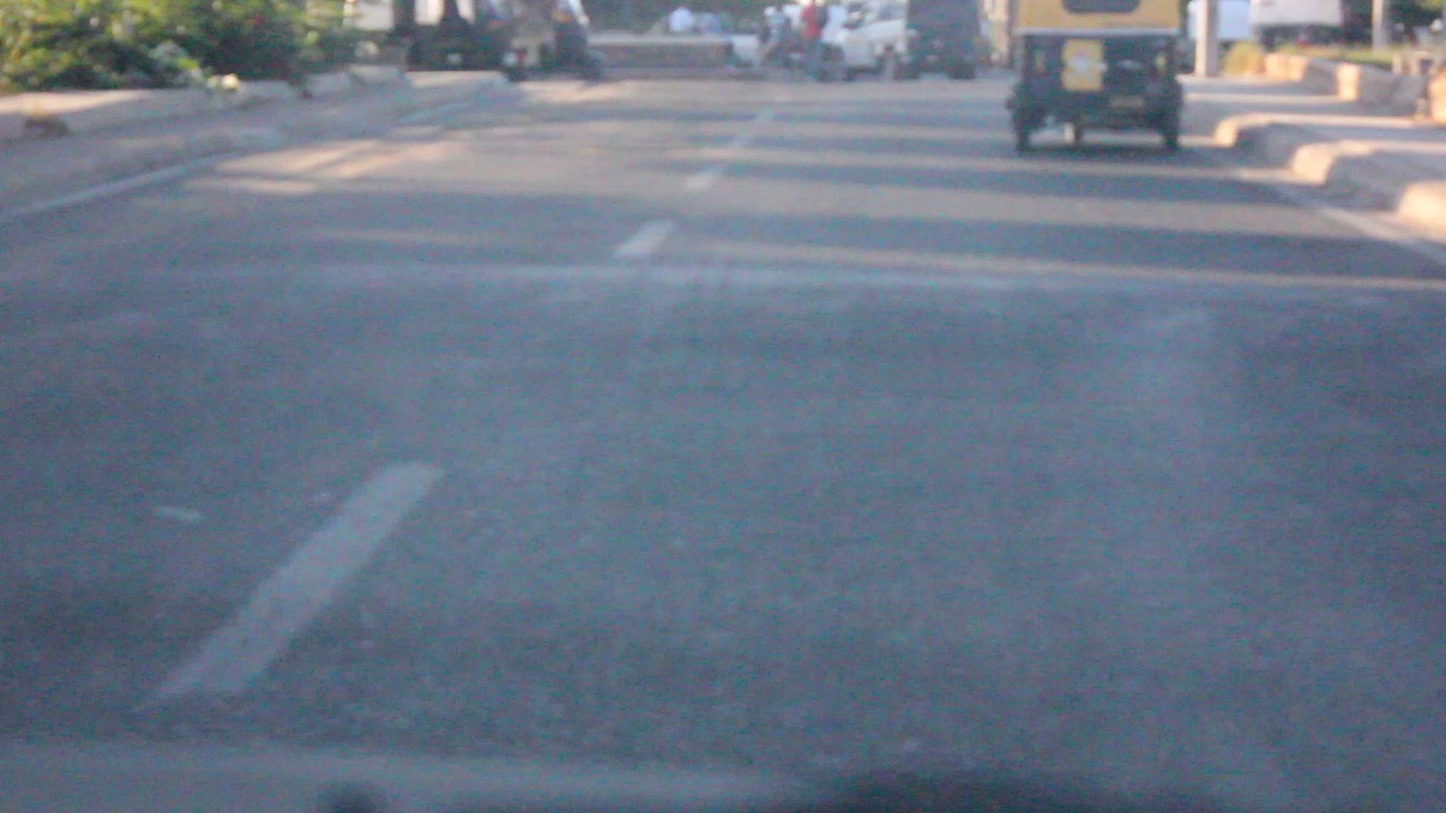Bump: (0, 265, 1446, 403)
